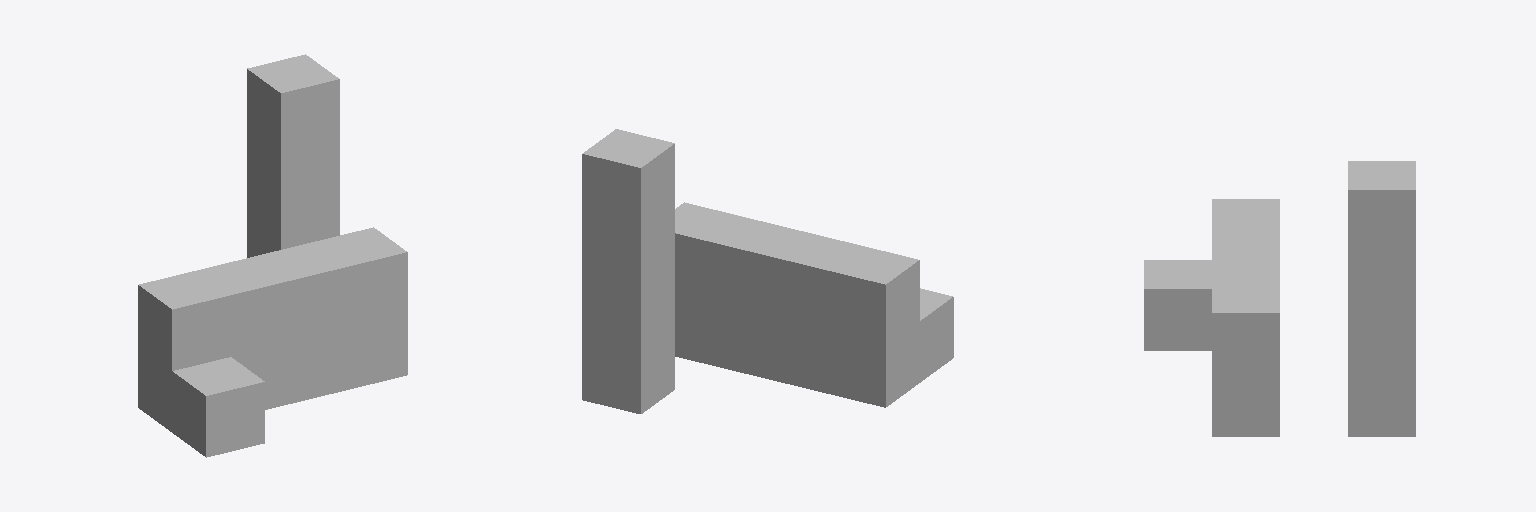
The model's file is testermulti.obj.
3 renders of one model, left to right at view 1: azimuth 30°, elevation 25°; view 2: azimuth 150°, elevation 25°; view 3: azimuth 270°, elevation 25°, orthographic.
Parts seen in each view (by area): view 1: mergedBlocks; view 2: mergedBlocks; view 3: mergedBlocks.
Part boxes in pixels (x1,y1,x2,y2): mergedBlocks: (138, 54, 407, 457); mergedBlocks: (582, 129, 953, 413); mergedBlocks: (1144, 161, 1415, 436).
Bounding box in the file's own units: 1 × 1 × 1.